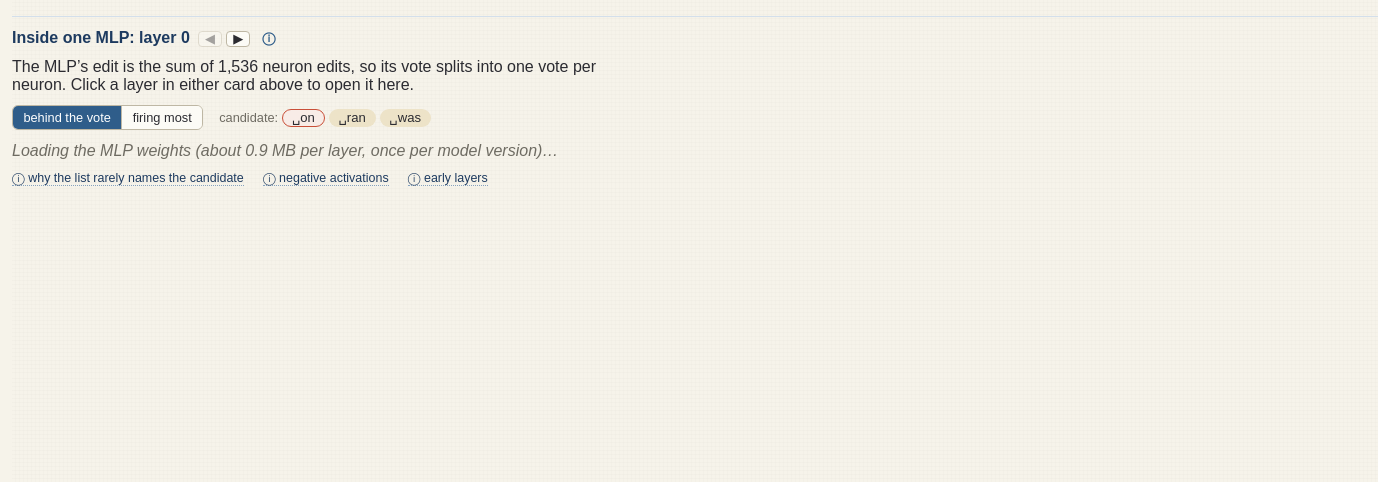
the stepper moves one layer and stops at the ends
Expected: the button with test id "neuron-prev" is disabled, [198,31,222,47]
Click the button with test id "neuron-next": (238, 39) [226,31,250,47]
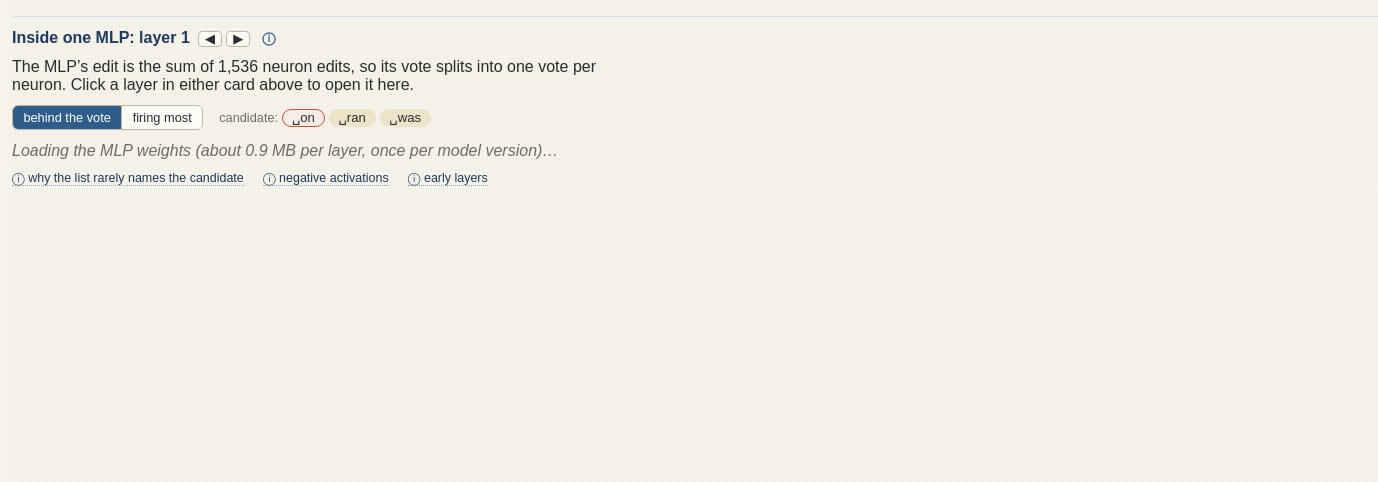
Result: the heading with test id "neuron-title" shows "layer 1" at [129,29,190,46]
Click the button with test id "neuron-next": (238, 39) [226,31,250,47]
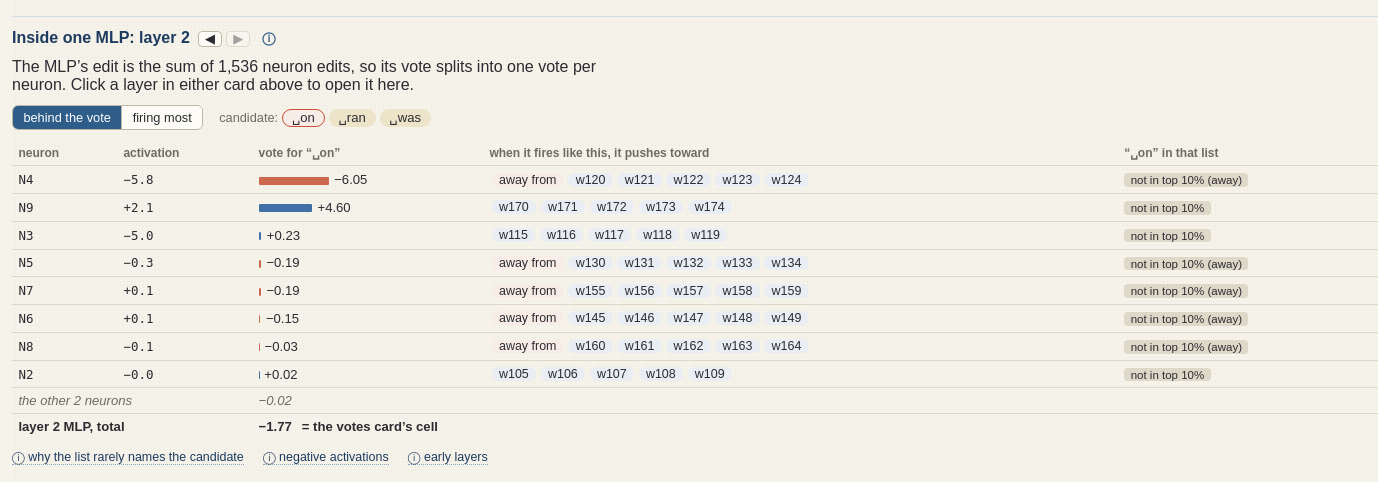
Result: the button with test id "neuron-next" is disabled at [226,31,250,47]
